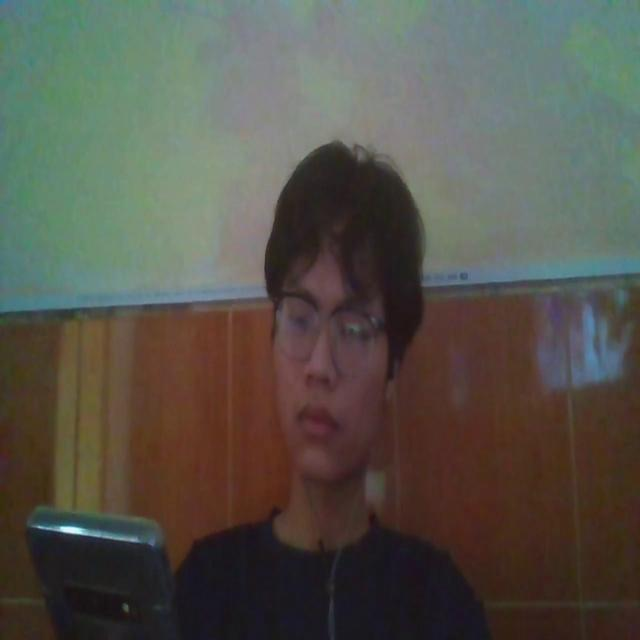phone: (26, 494, 170, 640)
student: (173, 139, 504, 640)
